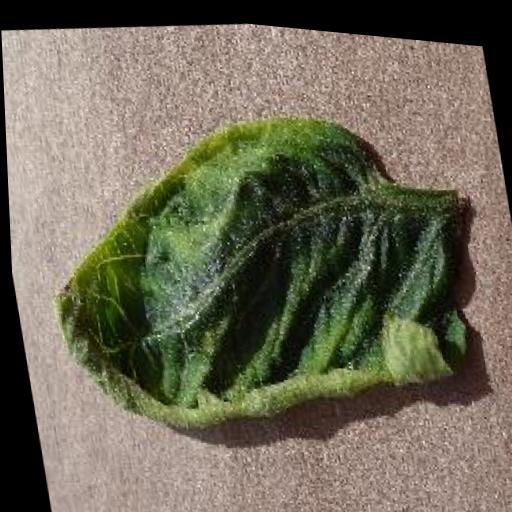Yellow Leaf Curl Virus: (18, 68, 488, 467)
